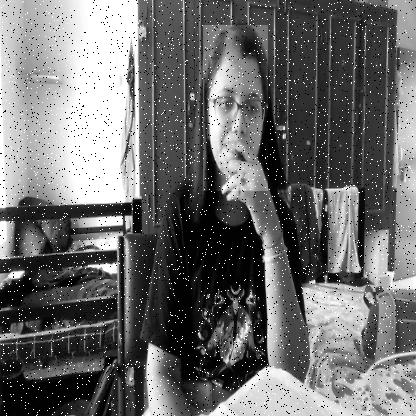Normal: (203, 26, 268, 192)
